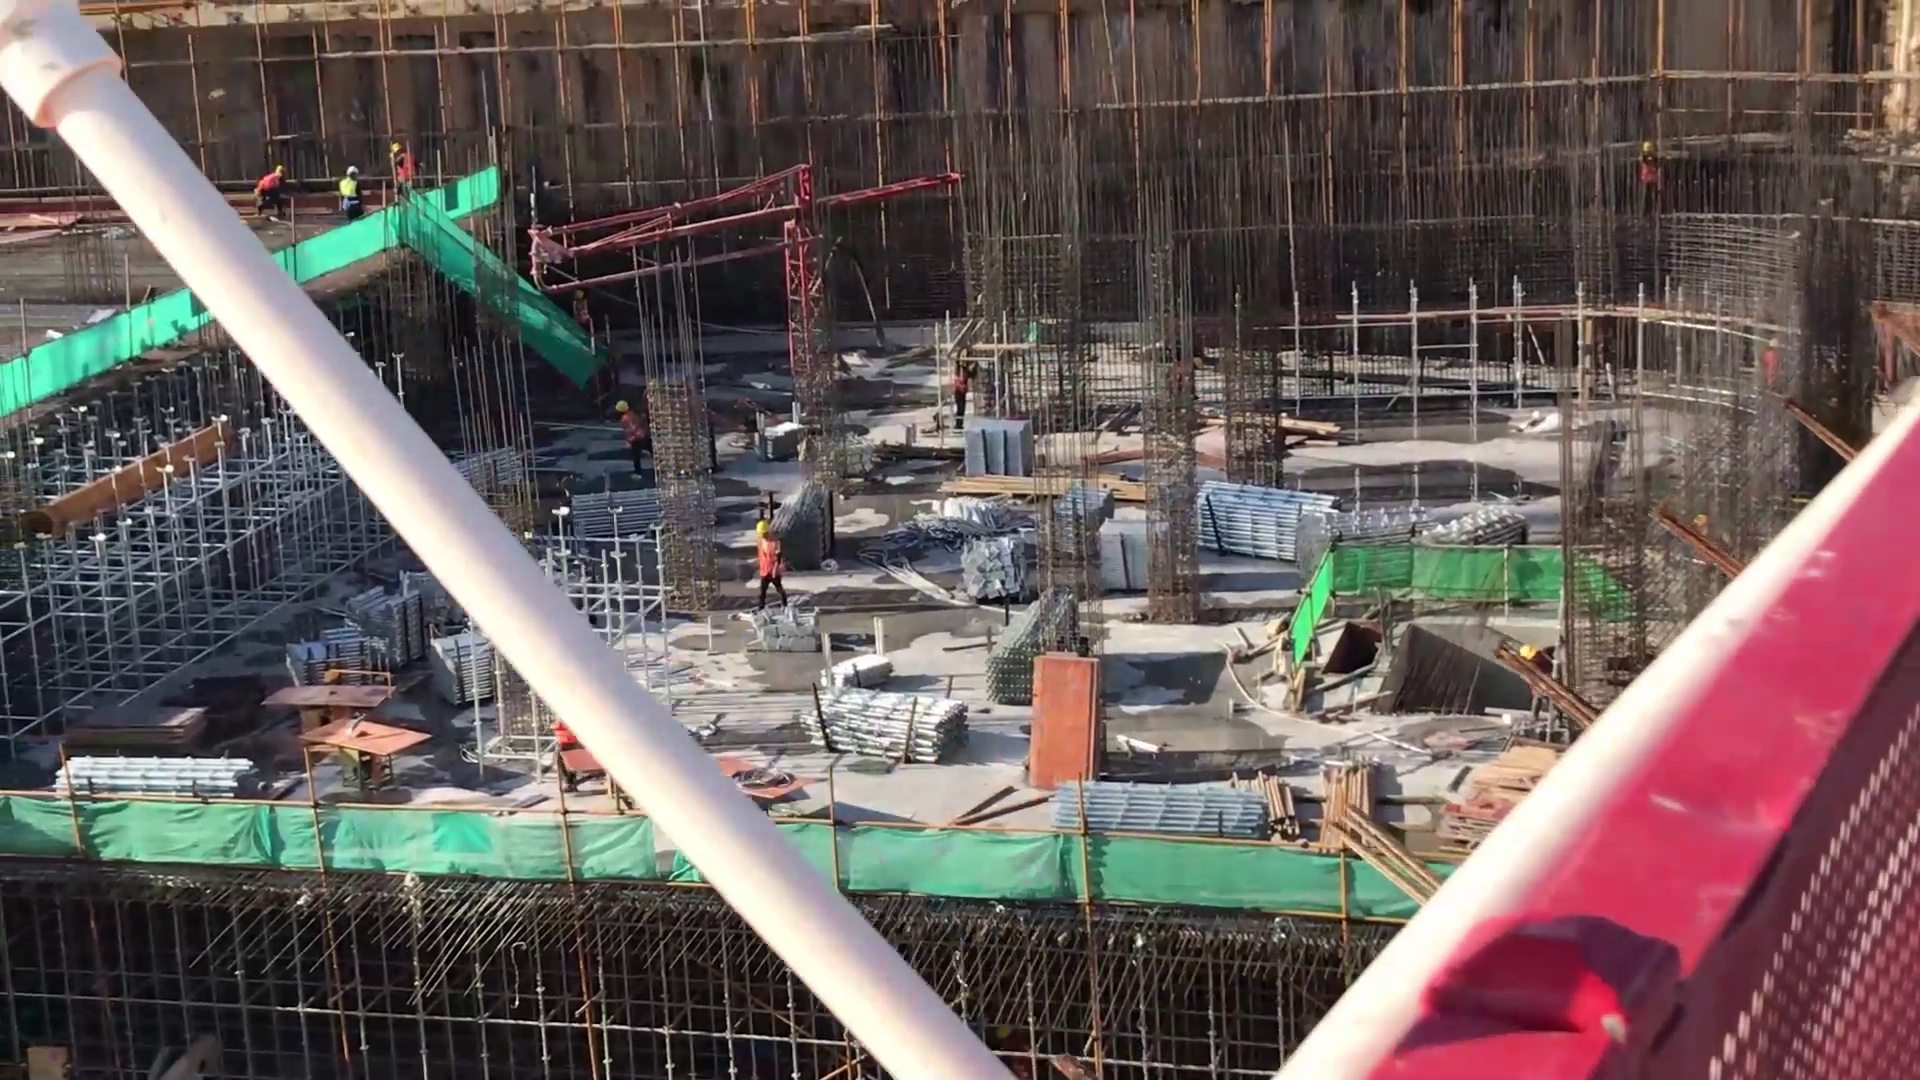helmet: (745, 512, 774, 544), (385, 136, 407, 164), (609, 392, 630, 418), (335, 164, 361, 181), (270, 158, 285, 177), (571, 288, 585, 301)
person: (745, 519, 799, 613), (609, 399, 659, 480), (943, 352, 981, 435), (247, 162, 291, 219), (383, 143, 425, 197), (1639, 140, 1670, 214), (1754, 332, 1786, 399), (333, 164, 371, 219), (564, 286, 597, 332)
vest: (754, 538, 787, 587), (333, 175, 360, 203), (251, 175, 280, 198), (395, 156, 416, 178), (575, 303, 590, 331)
